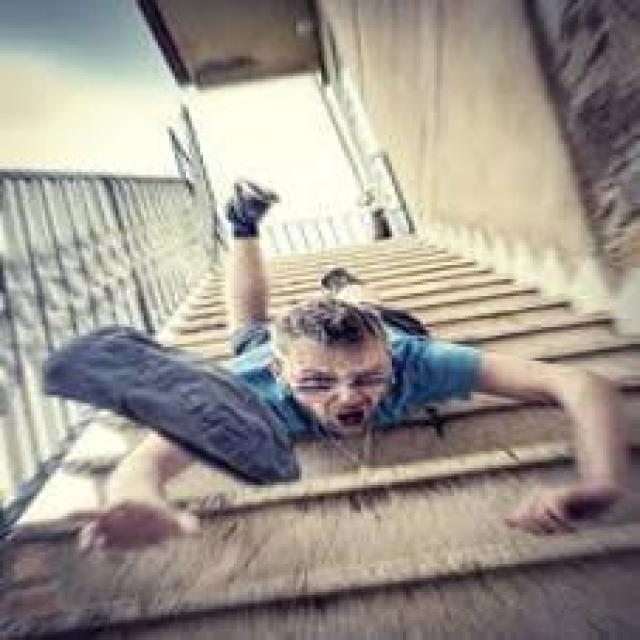downstair: (148, 421, 520, 607)
